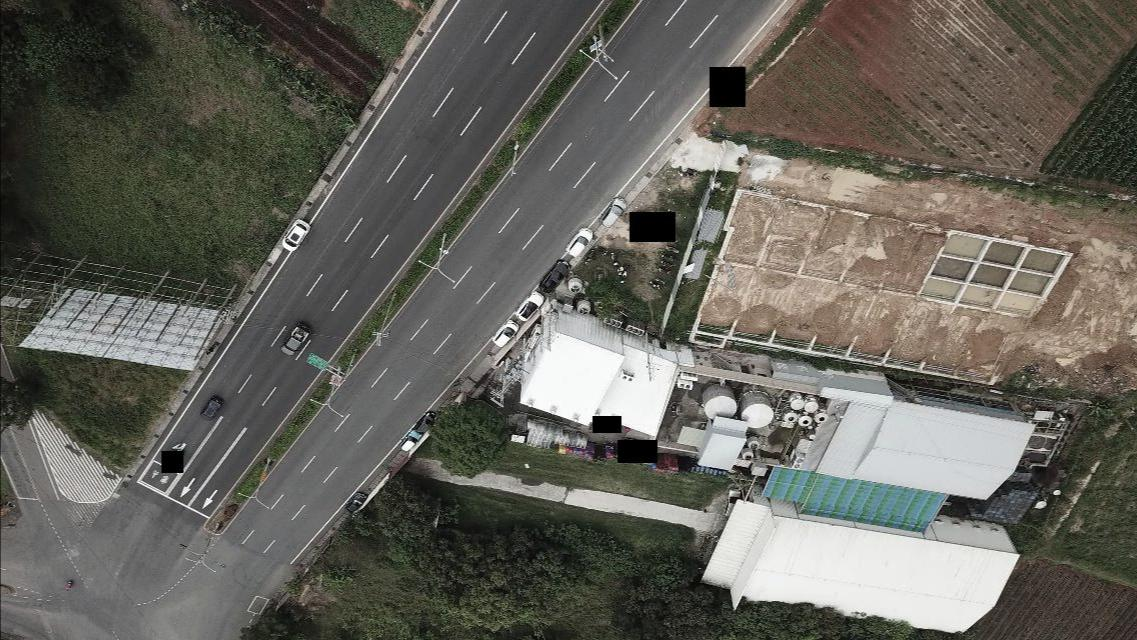vehicle: (537, 260, 571, 294), (280, 216, 311, 253), (513, 291, 545, 322), (281, 324, 311, 356), (599, 196, 628, 228), (492, 319, 520, 349), (567, 228, 593, 258), (721, 488, 744, 519), (201, 396, 222, 423), (410, 414, 436, 434), (400, 431, 421, 452)
